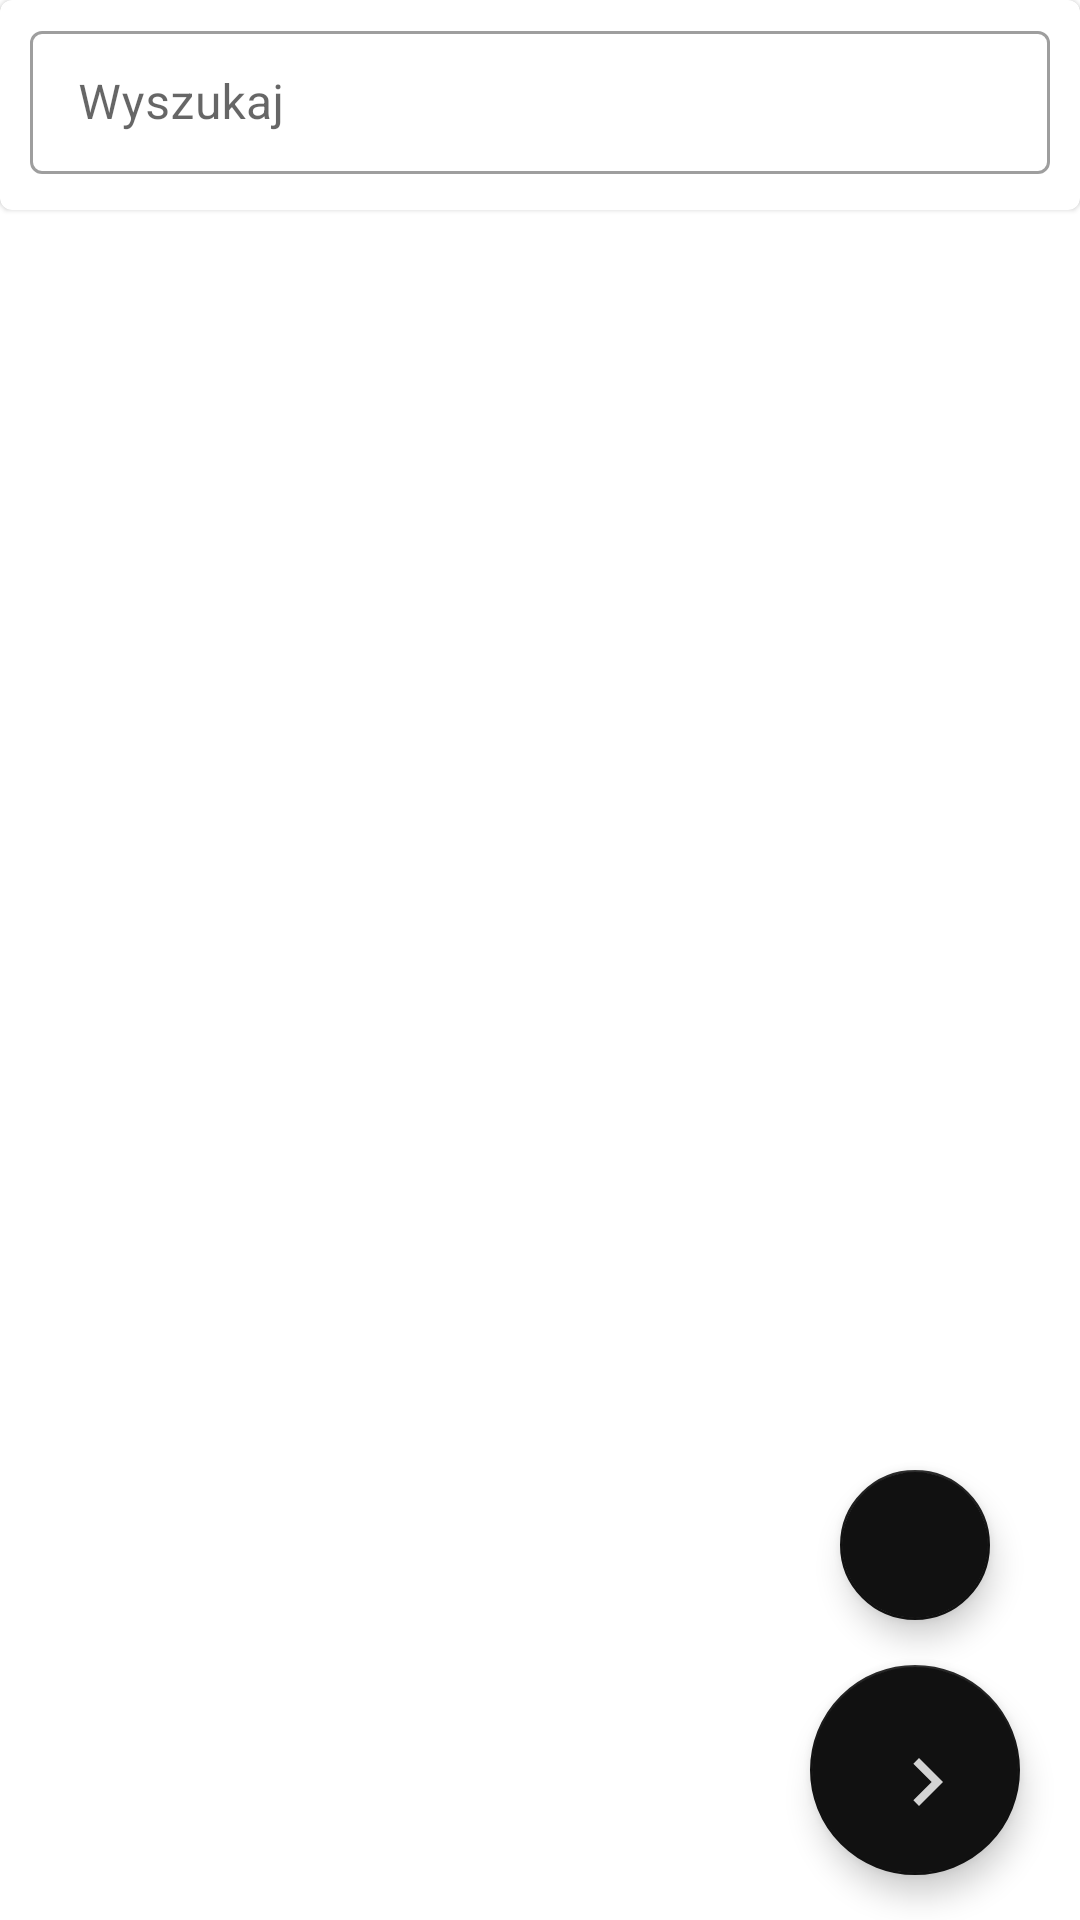

Locate icon controls on the screen. Image size 1080px x 1920px, boxes as (x1, y1, x2, y2).
chevron right: (810, 1665, 1020, 1875)
